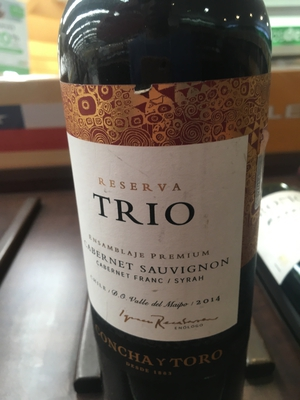trio cabernet sauvignon: (54, 4, 268, 400)
